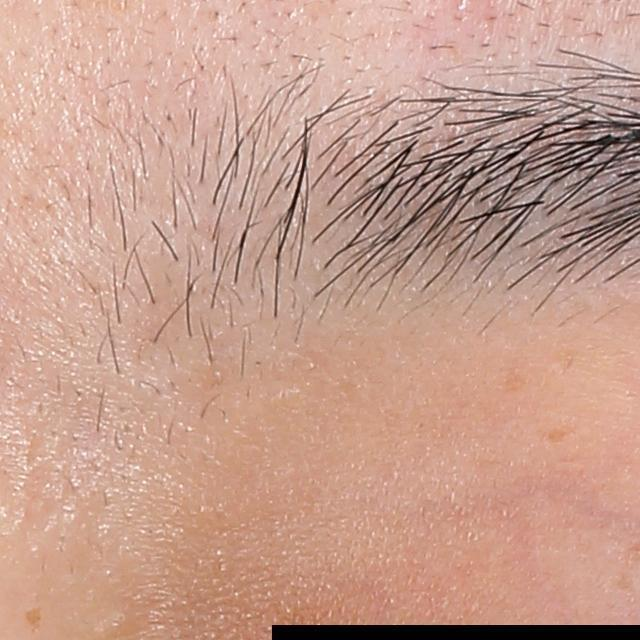melasma: (21, 604, 43, 637)
